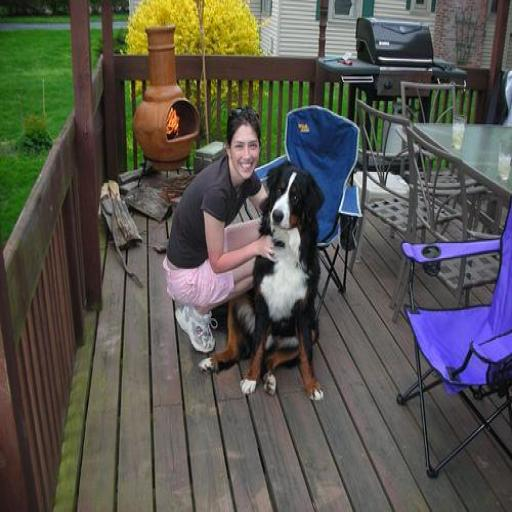dog_face: (261, 162, 319, 234)
